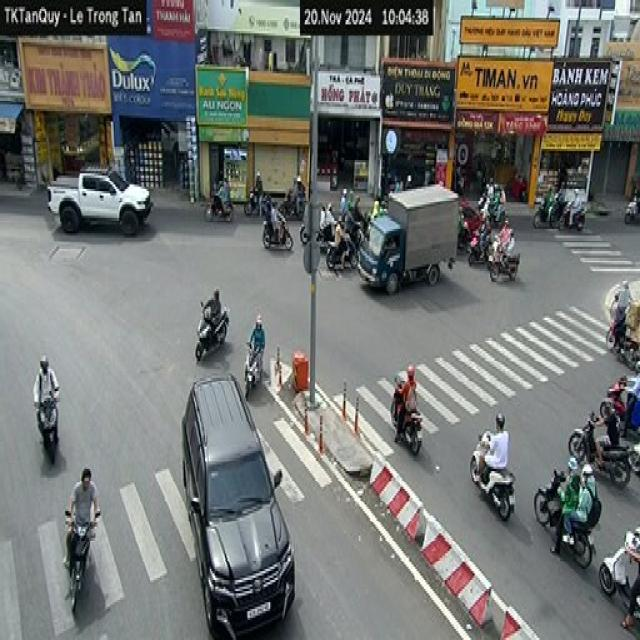motorcycle: (532, 469, 598, 579), (565, 410, 633, 492), (470, 429, 517, 528), (62, 508, 101, 622), (599, 520, 638, 604), (387, 381, 426, 457), (34, 388, 65, 474), (191, 307, 231, 360), (242, 343, 264, 400)
person: (68, 467, 104, 529), (598, 390, 622, 449), (31, 348, 59, 398), (561, 454, 581, 522), (578, 458, 598, 526), (489, 411, 509, 466), (204, 285, 224, 330), (248, 314, 268, 352), (404, 365, 418, 414)
truck: (355, 180, 460, 289)
